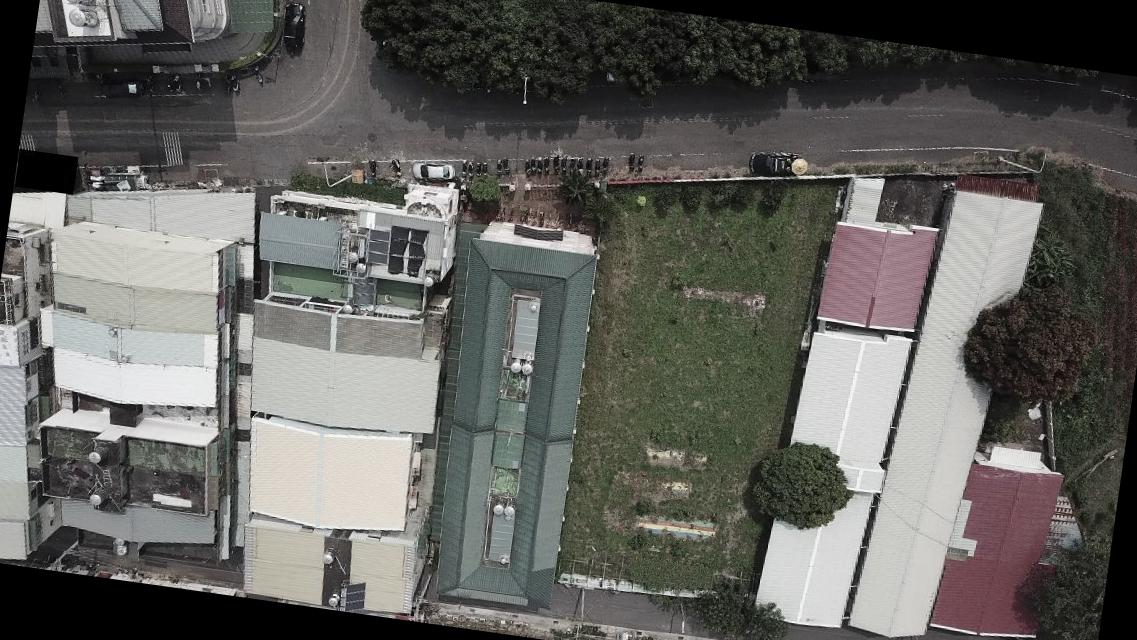vehicle: (748, 147, 804, 181), (275, 1, 307, 51), (410, 156, 457, 187), (104, 73, 146, 99)
